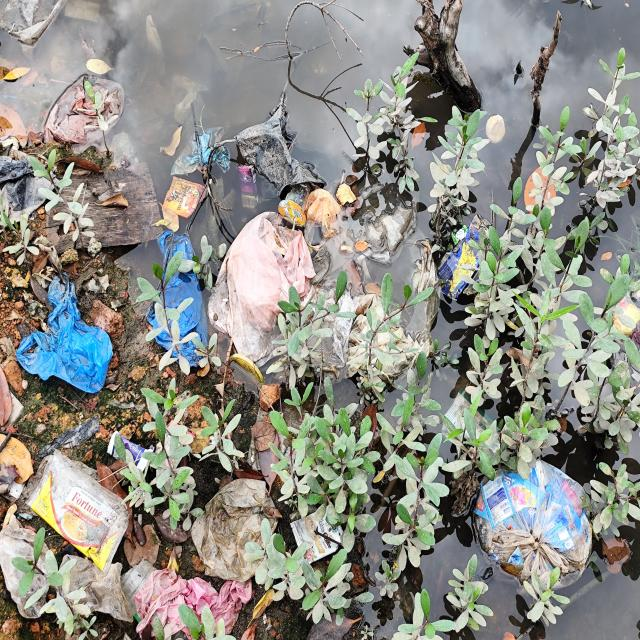Bungkus Minuman: (165, 175, 209, 221), (279, 181, 313, 233)
Kantong Plastik: (212, 211, 319, 363), (150, 231, 214, 364)
